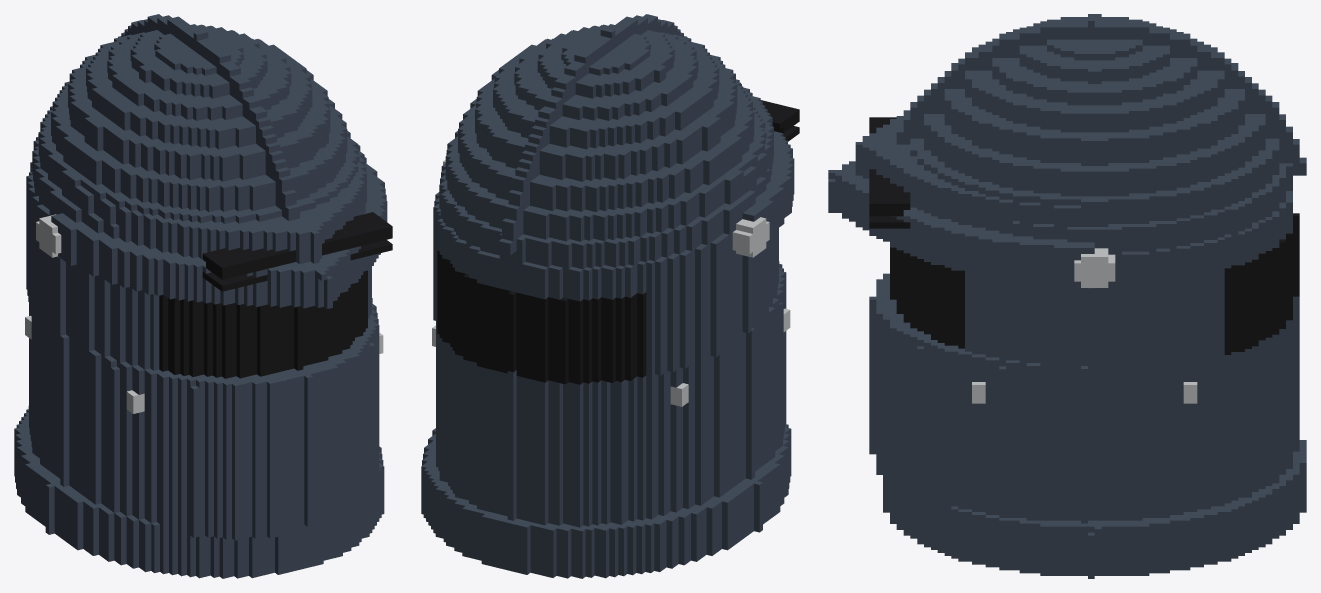
File: hc_lighthelm_close_raised.glb
3 views of the same model, side by side, from view 1: azimuth 30°, elevation 25°; view 2: azimuth 150°, elevation 25°; view 3: azimuth 270°, elevation 25° (orthographic). The views are drawn at different scales.
Visible parts, largest first — view 1: hc_lighthelm_close_raised:compound; view 2: hc_lighthelm_close_raised:compound; view 3: hc_lighthelm_close_raised:compound.
Boxes of the visible parts, x1,y1,x2,y2 form: hc_lighthelm_close_raised:compound: [14, 14, 392, 578]; hc_lighthelm_close_raised:compound: [421, 14, 799, 578]; hc_lighthelm_close_raised:compound: [828, 14, 1306, 578].
Size of the model in its own units: 0.216 by 0.312 by 0.28.
